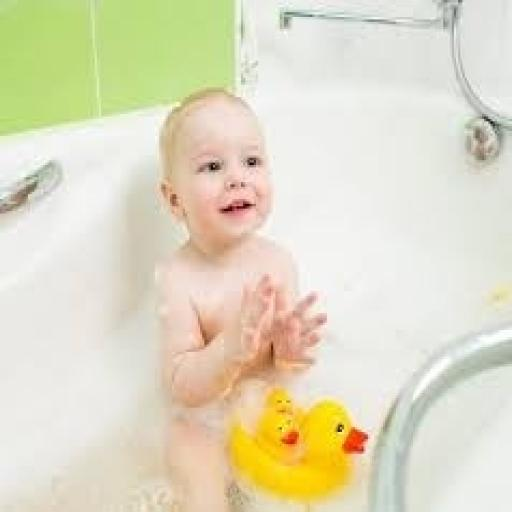clapping: (149, 85, 329, 510)
